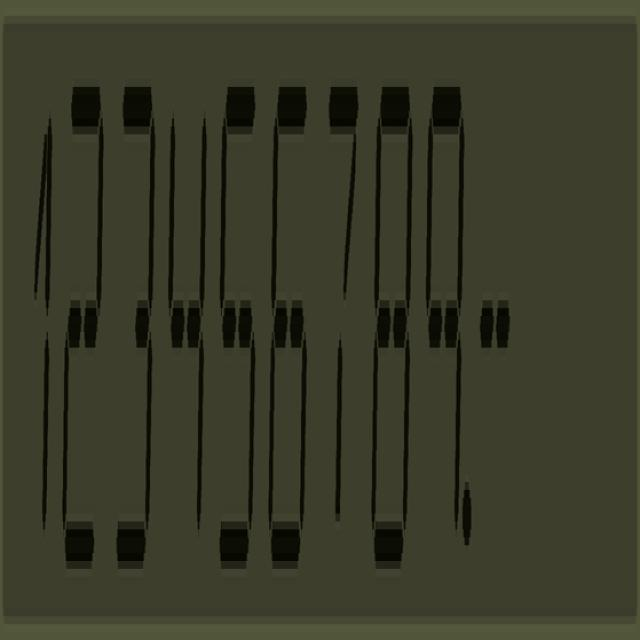-: (476, 269, 513, 373)
.: (459, 455, 474, 566)
1: (29, 108, 53, 562)
2: (60, 66, 106, 582)
3: (116, 64, 155, 578)
4: (167, 98, 208, 553)
5: (216, 57, 257, 585)
6: (269, 70, 309, 575)
7: (326, 72, 360, 540)
8: (368, 60, 413, 569)
9: (424, 63, 466, 547)
